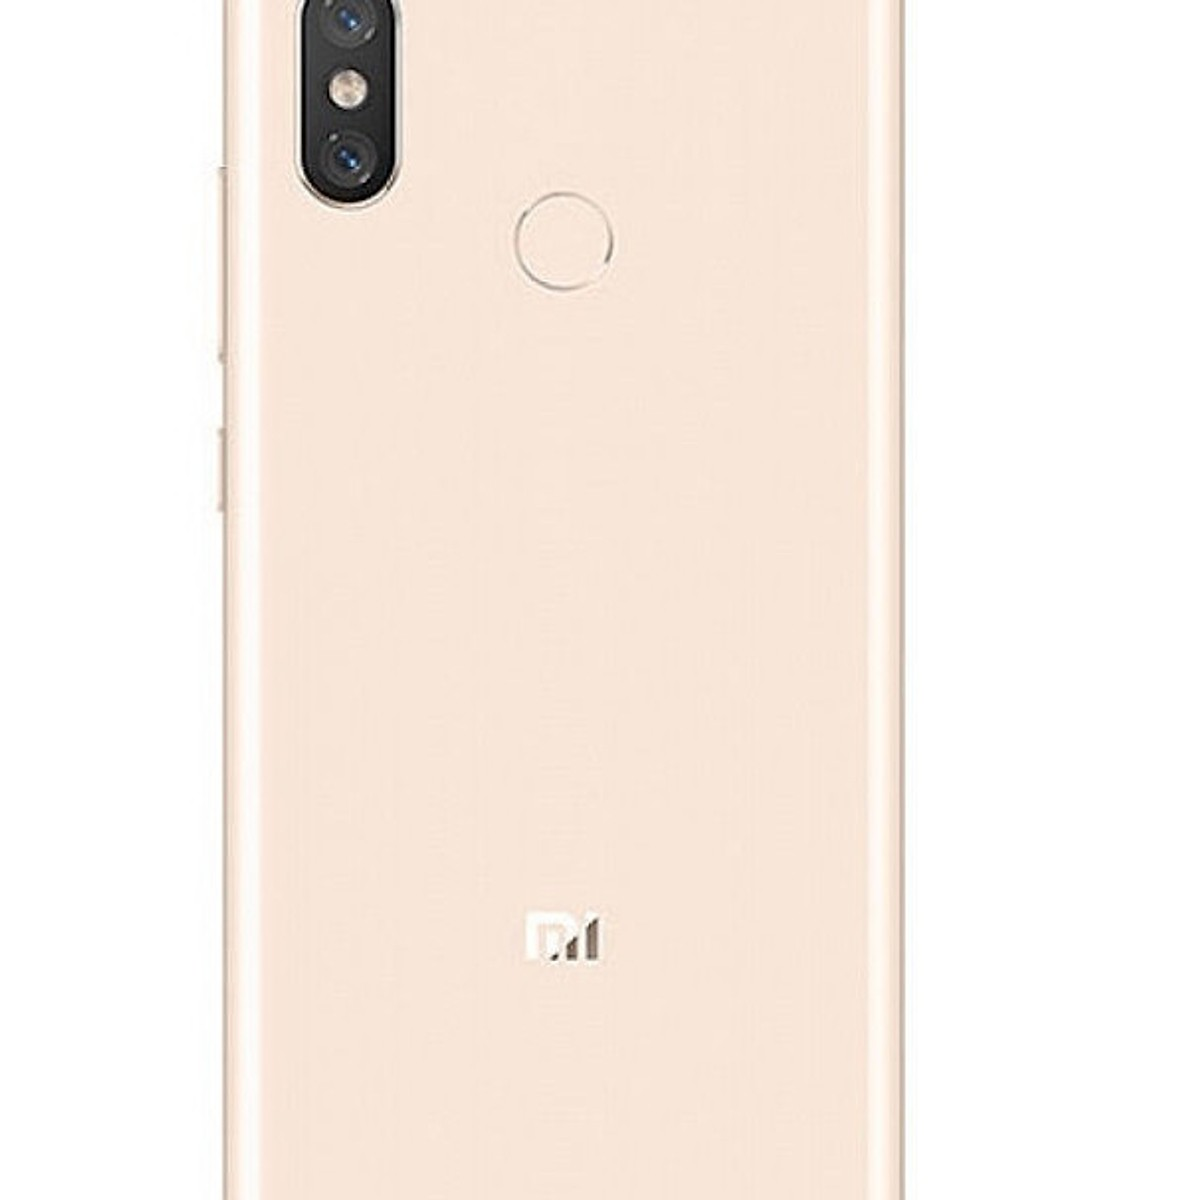Xiaomi: (351, 804, 738, 1047)
